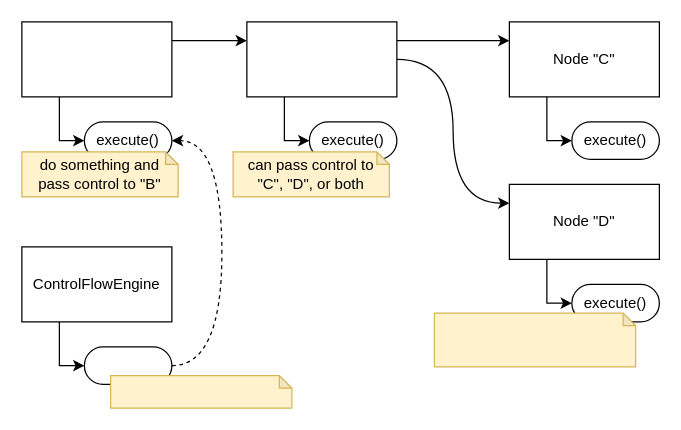
Some shapes in this 681 by 430 pixel diagram are drawn without their labels. Here are the shapes that lost their labels. From the top down, the centre of each, then its label:
(x=96, y=59): Node "A"
(x=321, y=59): Node "B"
(x=534, y=339): do something even if there are no outgoing nodes
(x=127, y=365): execute "A"
(x=200, y=391): Start graph execution
